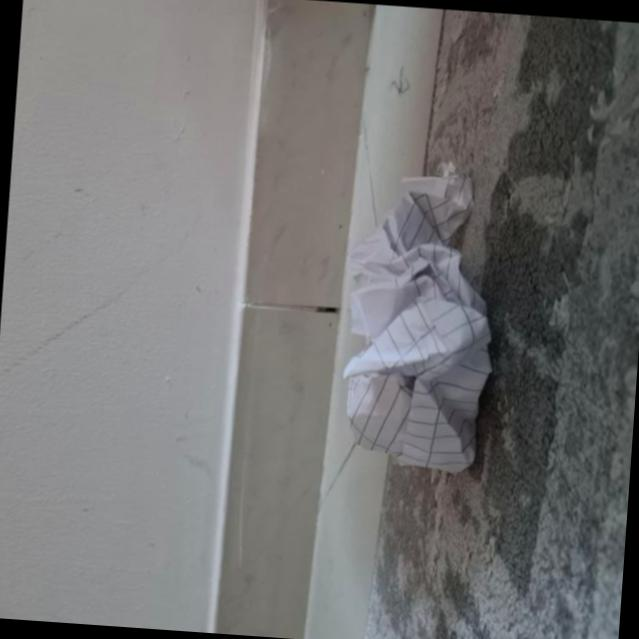cardboard paper: (342, 172, 489, 469)
